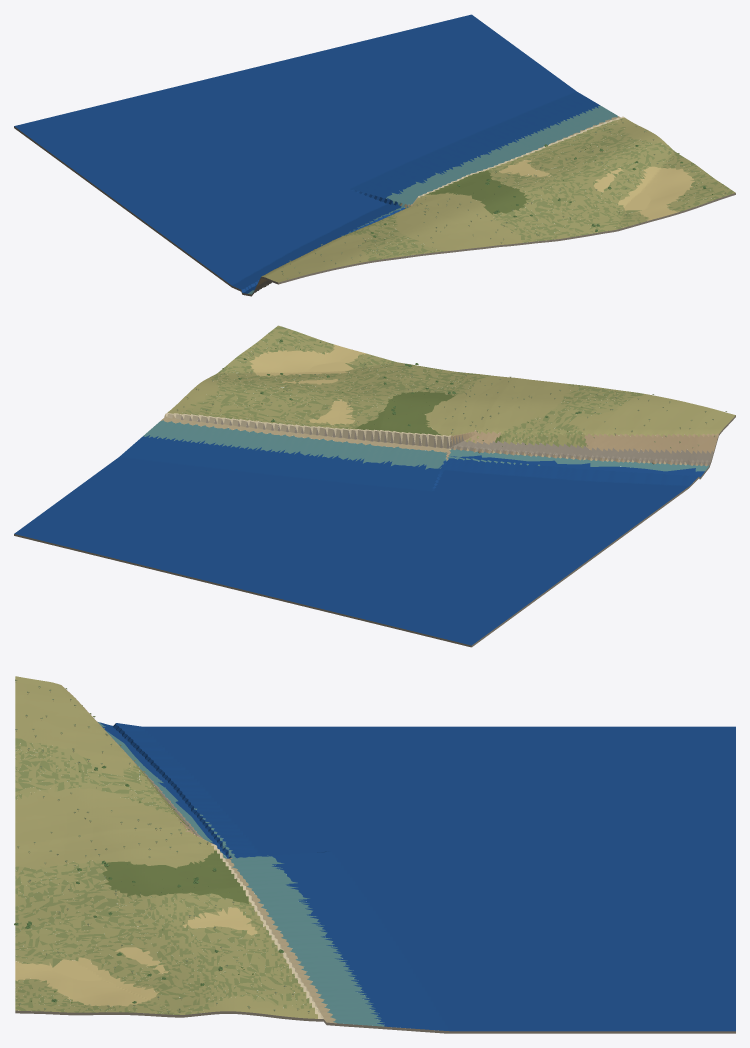
File: parca_-2_-1-yakin.glb
3 renders of one model, top to bottom at view 1: azimuth 30°, elevation 25°; view 2: azimuth 150°, elevation 25°; view 3: azimuth 270°, elevation 25°, orthographic. The views are drawn at different scales.
Parts seen in each view (by area): view 1: parca_-2_-1_arazi, parca_-2_-1_bitkiler; view 2: parca_-2_-1_arazi, parca_-2_-1_bitkiler; view 3: parca_-2_-1_arazi, parca_-2_-1_bitkiler.
Boxes of the visible parts, box(x1,y1,x2,y2) form: parca_-2_-1_arazi: box(14, 14, 735, 296); parca_-2_-1_bitkiler: box(261, 119, 726, 278); parca_-2_-1_arazi: box(14, 325, 735, 647); parca_-2_-1_bitkiler: box(176, 327, 726, 448); parca_-2_-1_arazi: box(15, 676, 735, 1033); parca_-2_-1_bitkiler: box(14, 679, 309, 1013).
Size of the model in its own units: 1000 by 84.95 by 1002.
